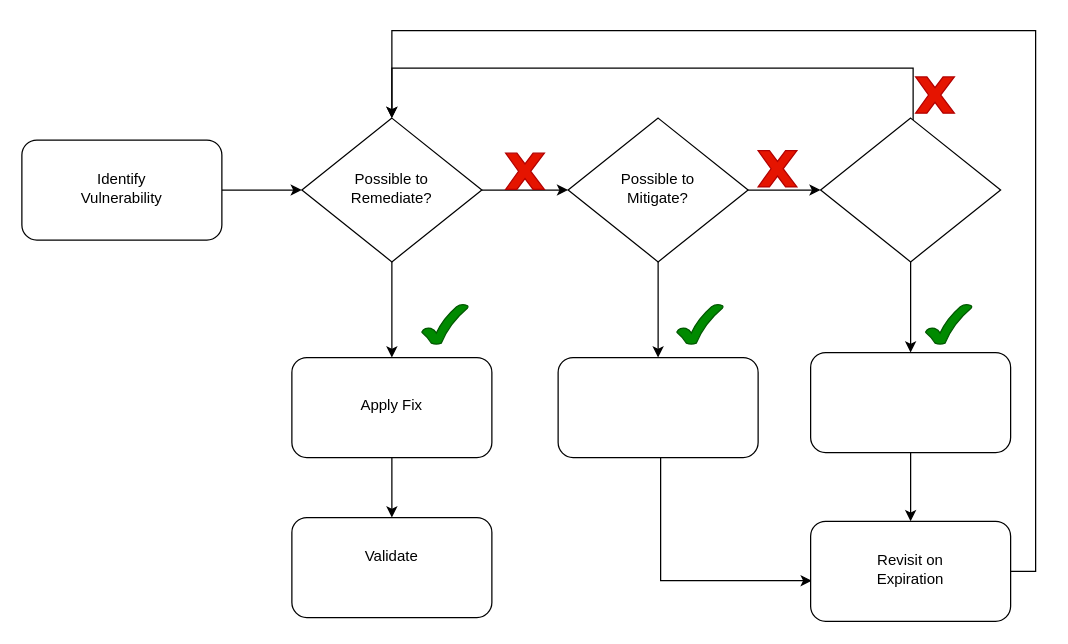
The diagram is 1068 pixels wide and 644 high, and some of its shapes have lost their labels. Here are the shapes that lost their labels. From the top down, the box of each, then its label:
(819, 117, 1001, 262): Accept Risk?
(557, 356, 758, 458): Apply Mitigation Controls
(809, 351, 1011, 452): Approve Exception
